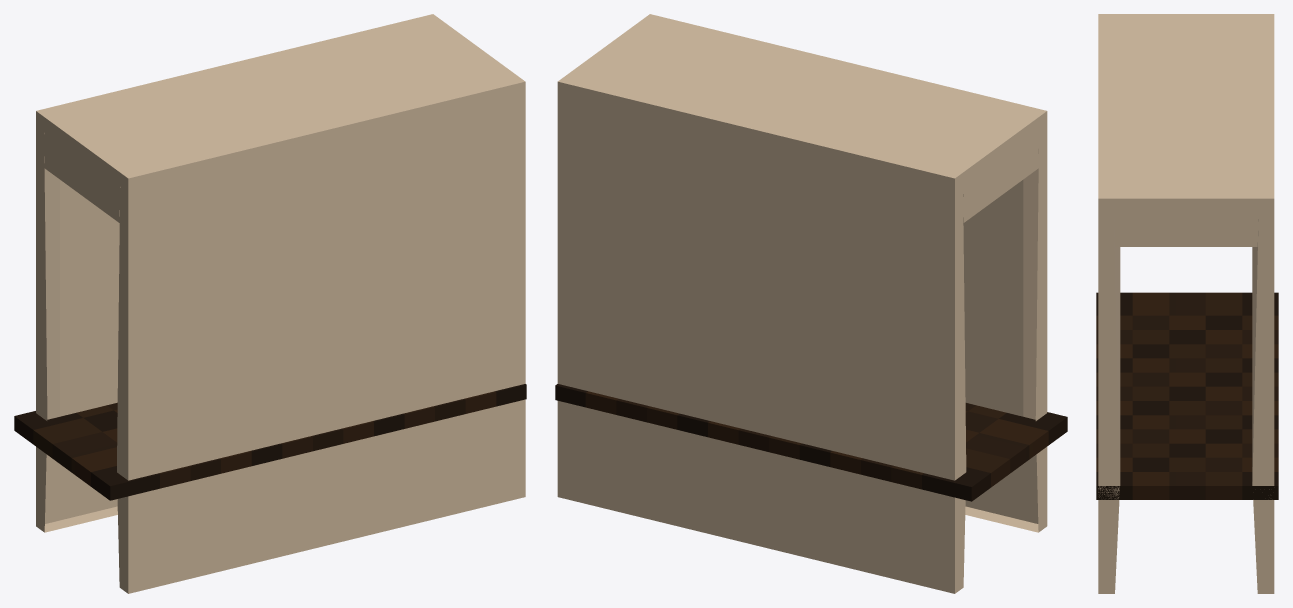
Rendered from aparmentTransition.fbx.
3 renders of one model, left to right at view 1: azimuth 30°, elevation 25°; view 2: azimuth 150°, elevation 25°; view 3: azimuth 270°, elevation 25°, orthographic. The views are drawn at different scales.
Parts seen in each view (by area): view 1: A_Trans; view 2: A_Trans; view 3: A_Trans.
Part boxes in pixels (<box>): A_Trans: <box>14,14,526,593</box>; A_Trans: <box>555,14,1067,593</box>; A_Trans: <box>1096,14,1278,593</box>.
Size of the model in its own units: 216 by 206 by 86.17.
1 material, 1 textured.
